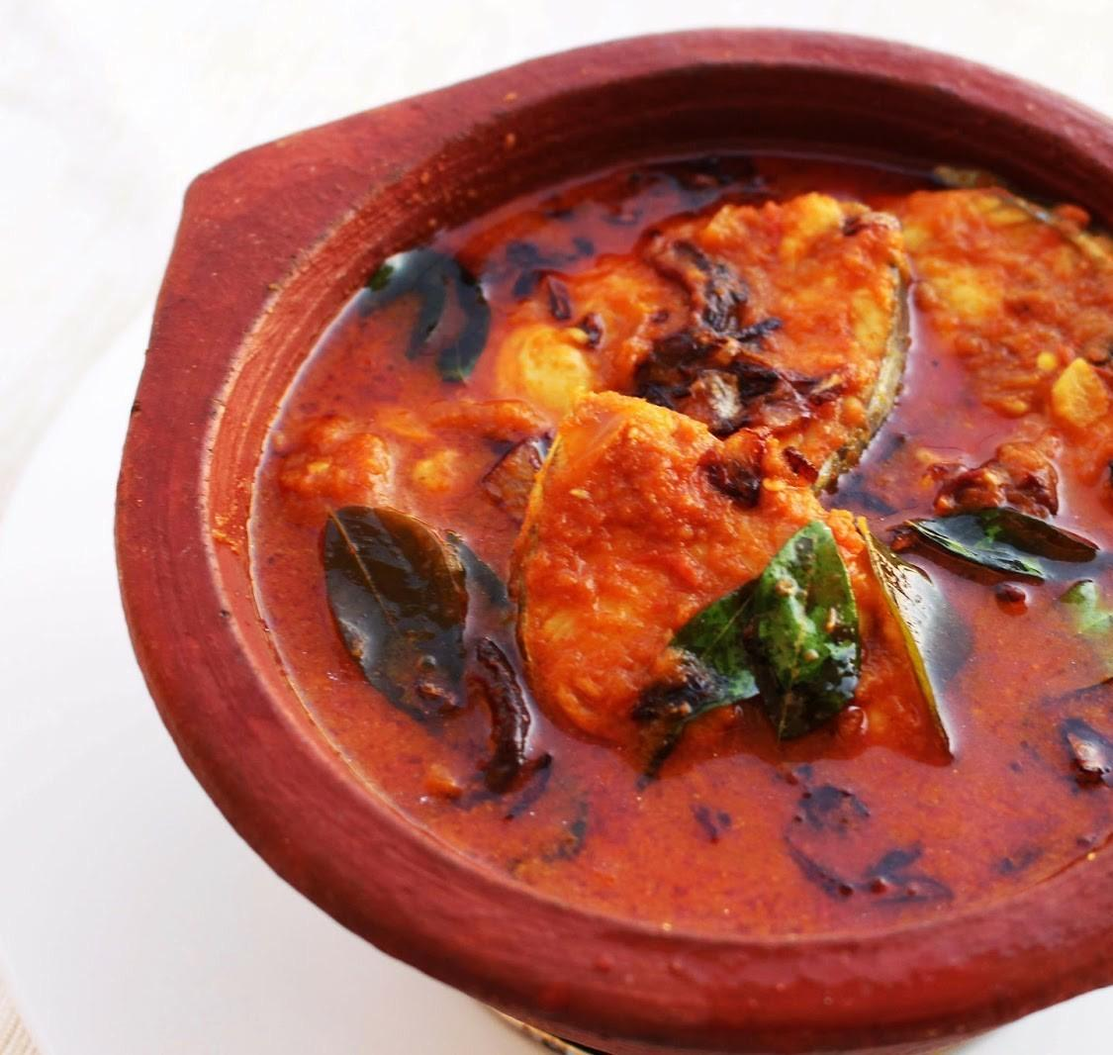FishCurry: (253, 142, 1113, 945)
